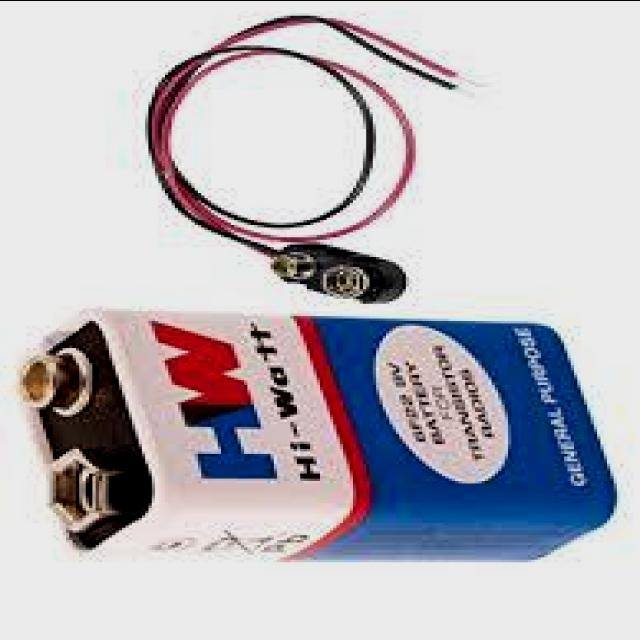9V: (15, 300, 632, 566)
